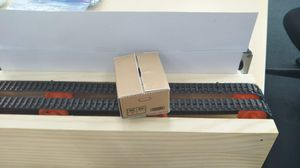box1: (111, 49, 171, 119)
